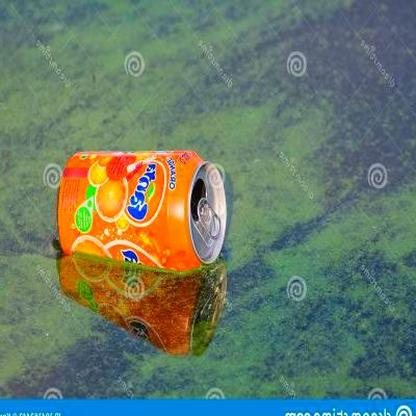can: (56, 149, 226, 269)
